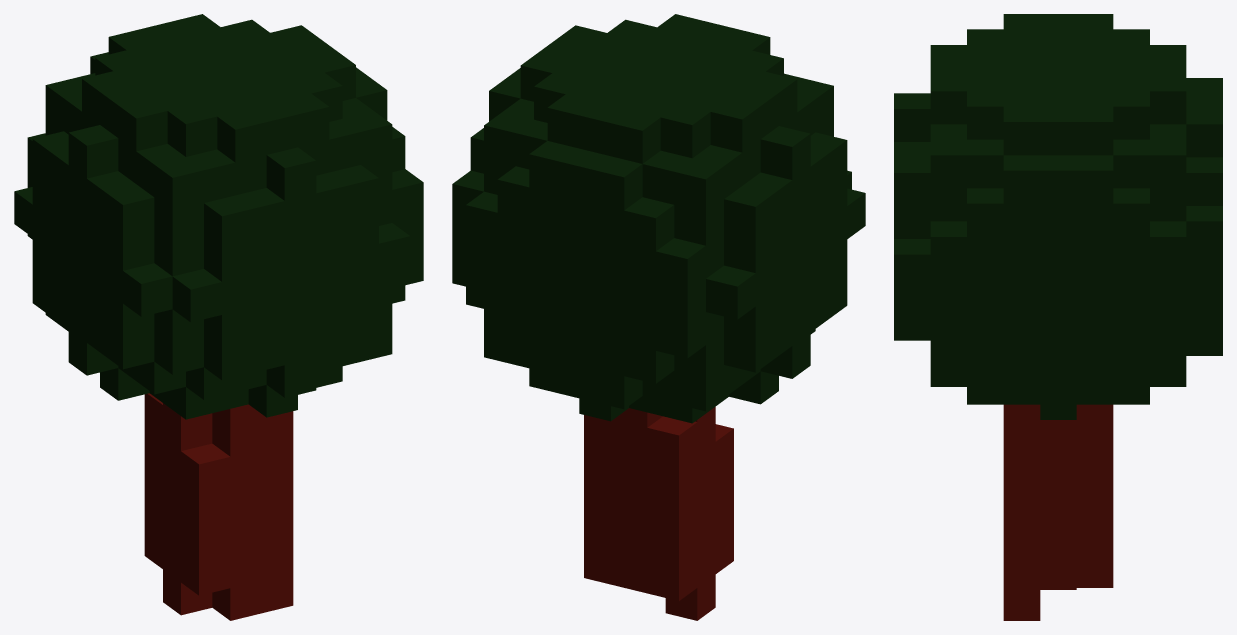
The model's file is tree2FBX.fbx.
3 views of the same model, side by side, from view 1: azimuth 30°, elevation 25°; view 2: azimuth 150°, elevation 25°; view 3: azimuth 270°, elevation 25° (orthographic).
Parts seen in each view (by area): view 1: Tree2Mesh; view 2: Tree2Mesh; view 3: Tree2Mesh.
Part boxes in pixels (x1,y1,x2,y2): Tree2Mesh: [14, 14, 423, 620]; Tree2Mesh: [452, 14, 865, 620]; Tree2Mesh: [894, 14, 1222, 620].
Size of the model in its own units: 65 by 116 by 65.
